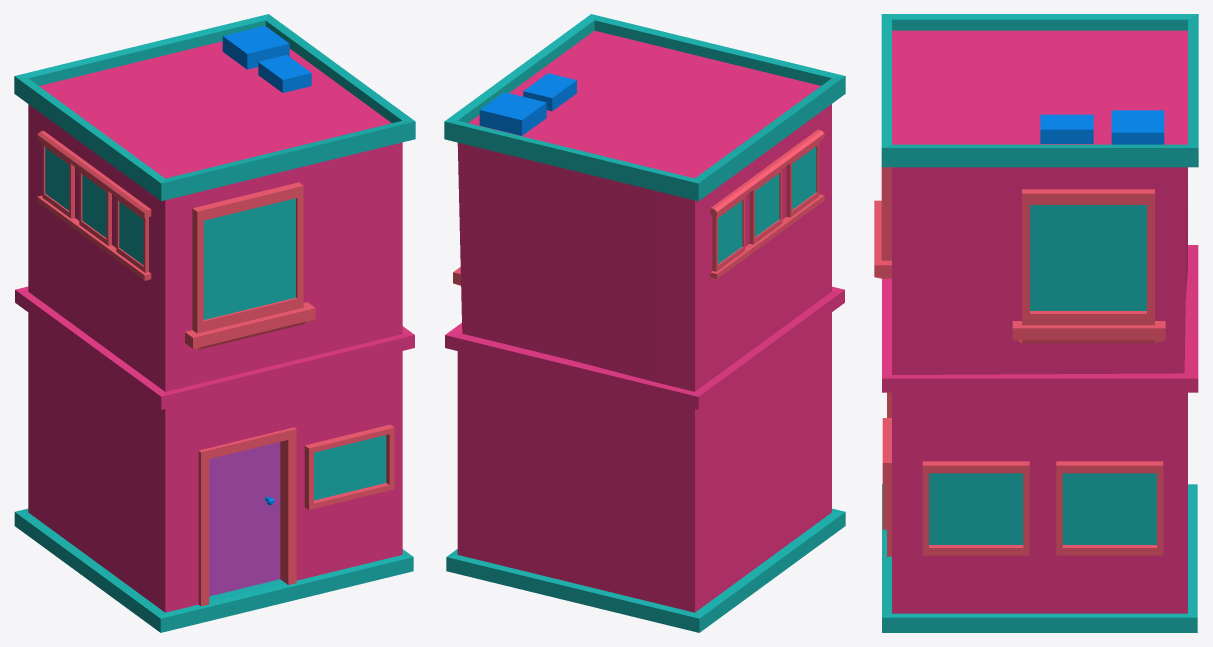
File: BuildingPurple.fbx
The picture shows the model from 3 angles, left to right: view 1: azimuth 30°, elevation 25°; view 2: azimuth 150°, elevation 25°; view 3: azimuth 270°, elevation 25°; orthographic projection. The views are drawn at different scales.
Visible parts, largest first — view 1: Building 1; view 2: Building 1; view 3: Building 1.
Part boxes in pixels (bbox=[...]): Building 1: bbox=[14, 14, 415, 632]; Building 1: bbox=[444, 14, 845, 632]; Building 1: bbox=[874, 14, 1198, 632].
Bounding box in the file's own units: 382 × 634 × 380.
